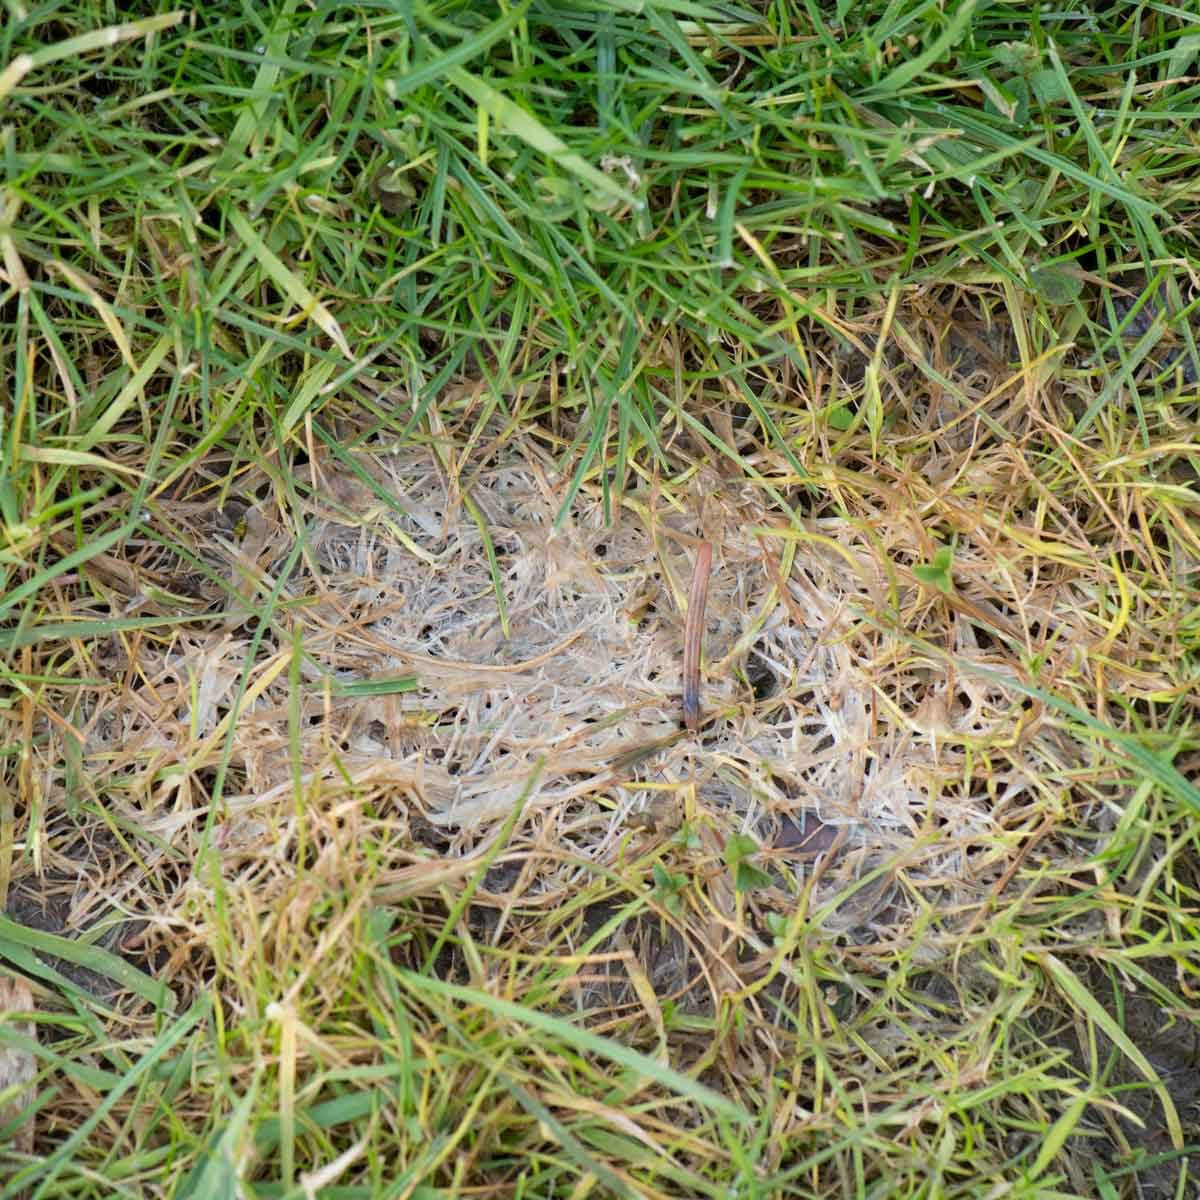Fusarium: (238, 434, 913, 815)
